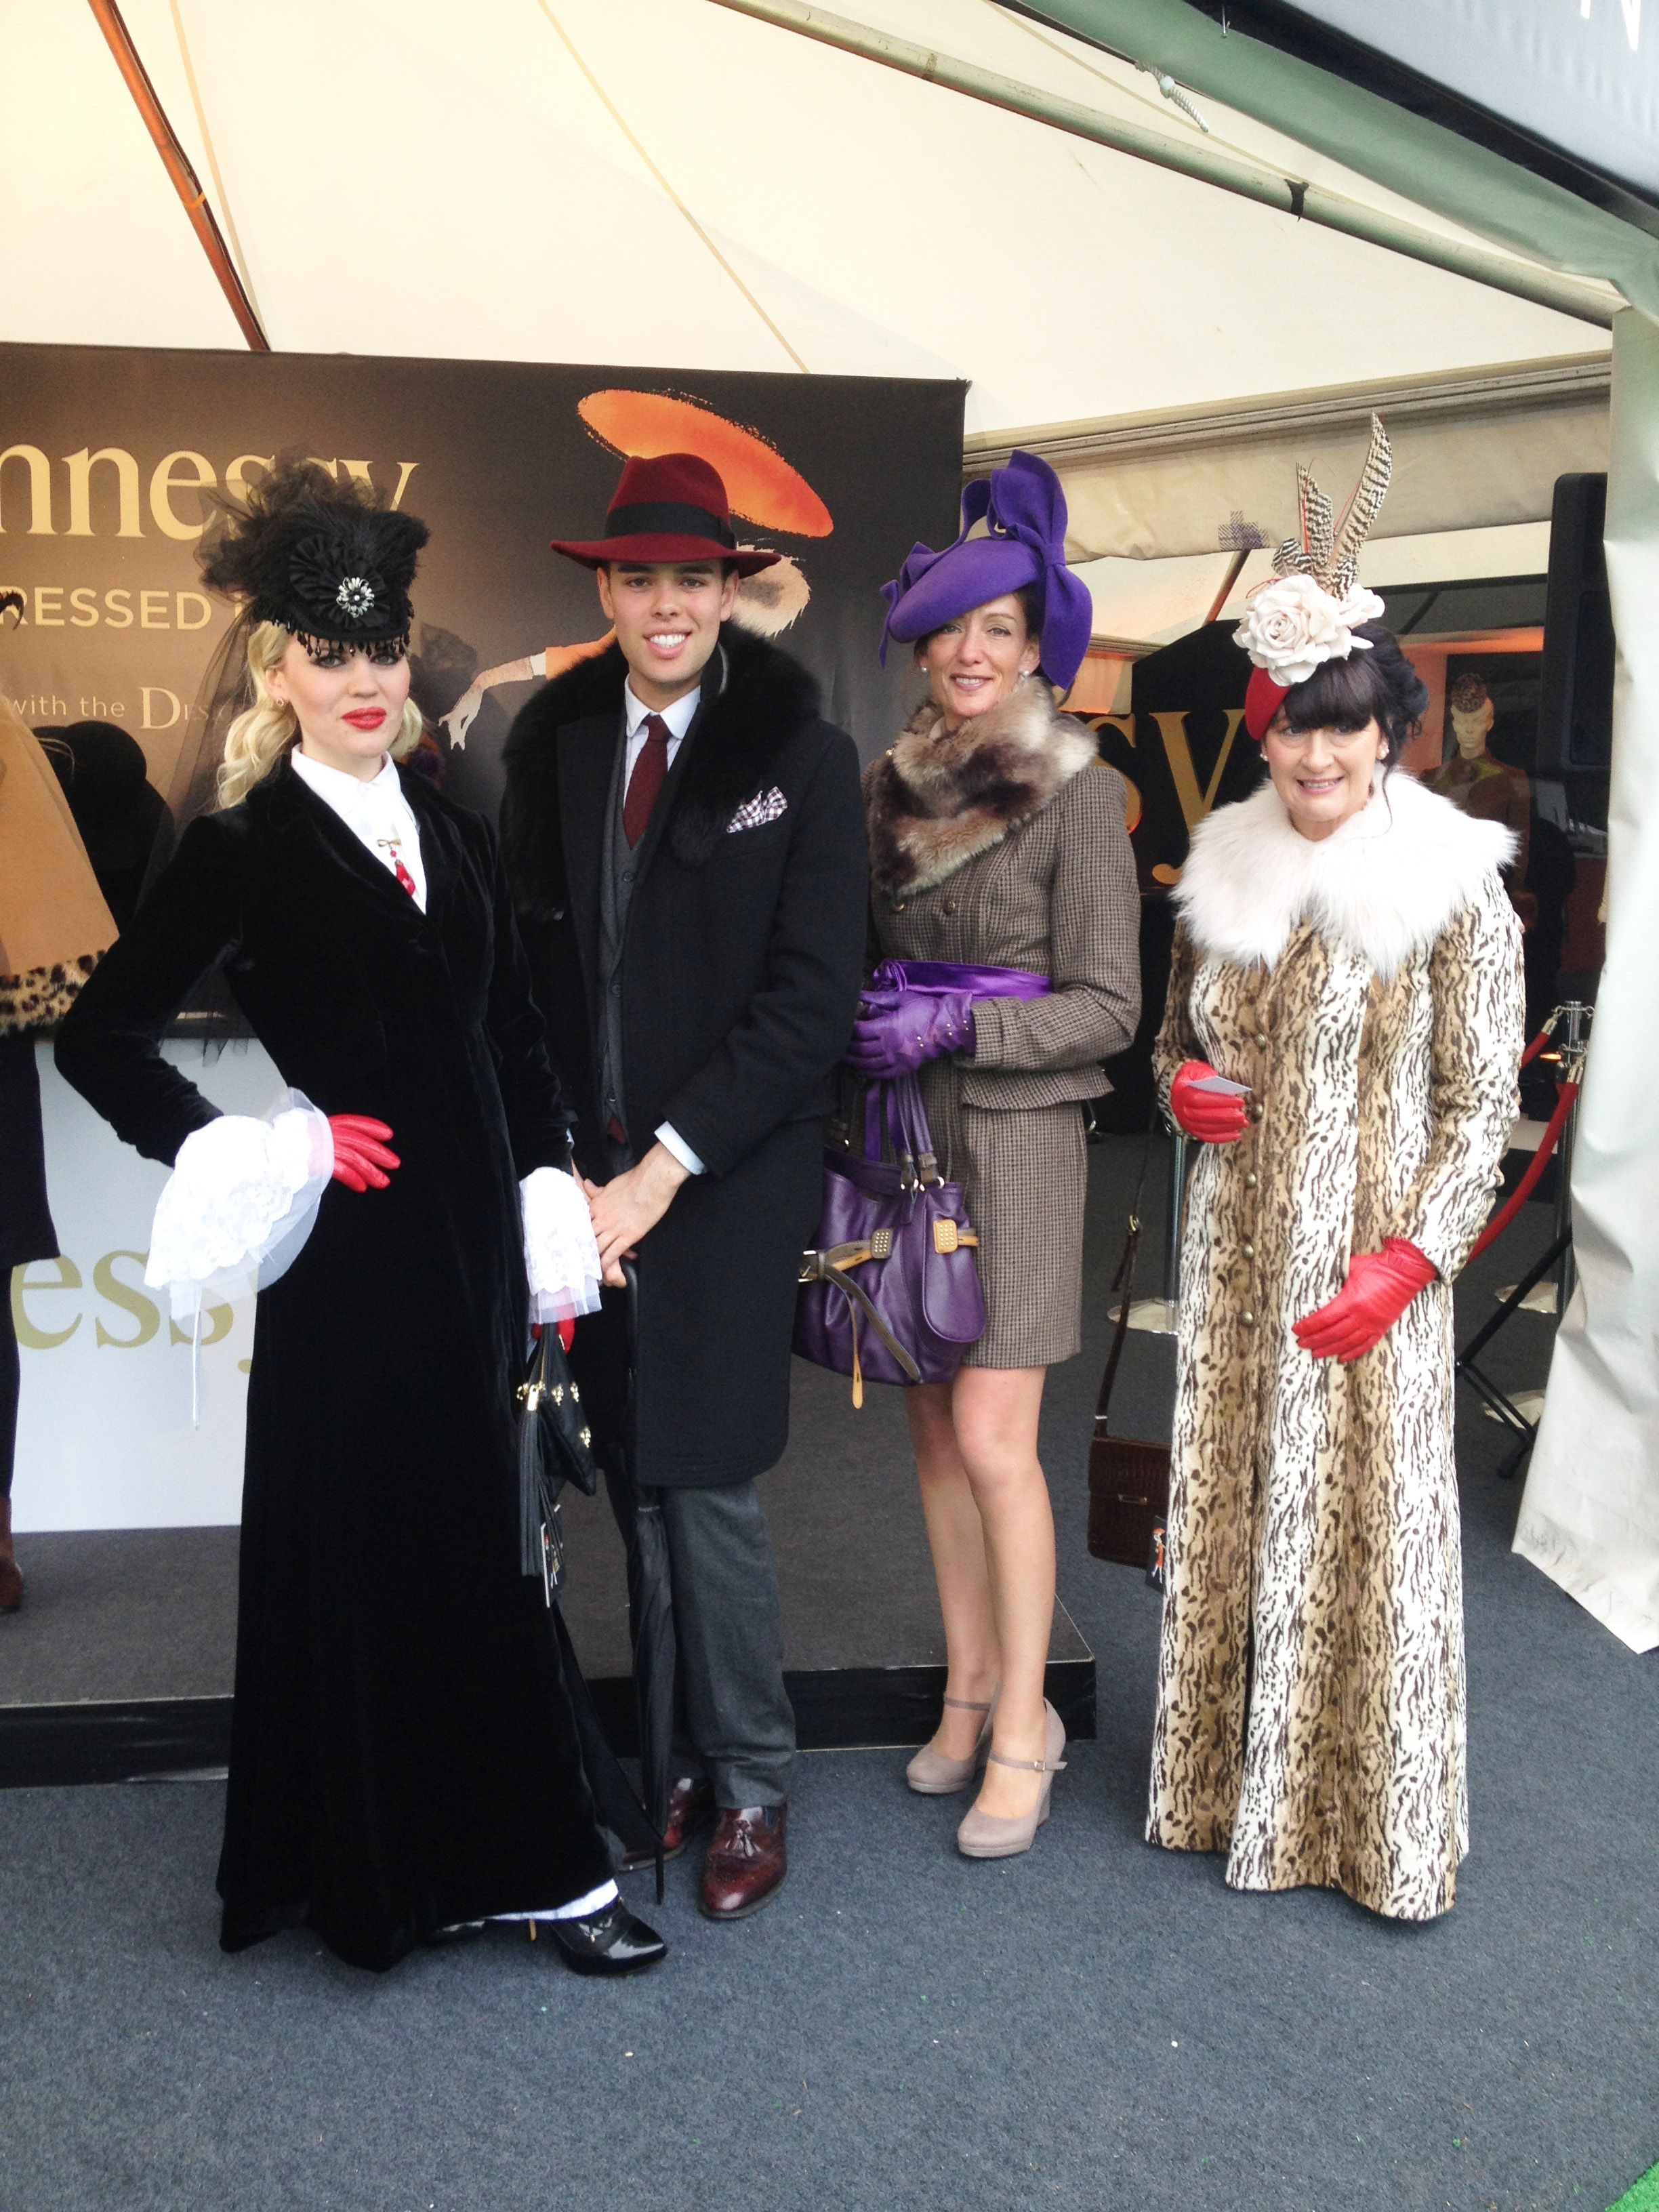Person: (52, 468, 587, 1968), (1161, 407, 1521, 1920), (512, 451, 867, 1920), (856, 449, 1144, 1864)
